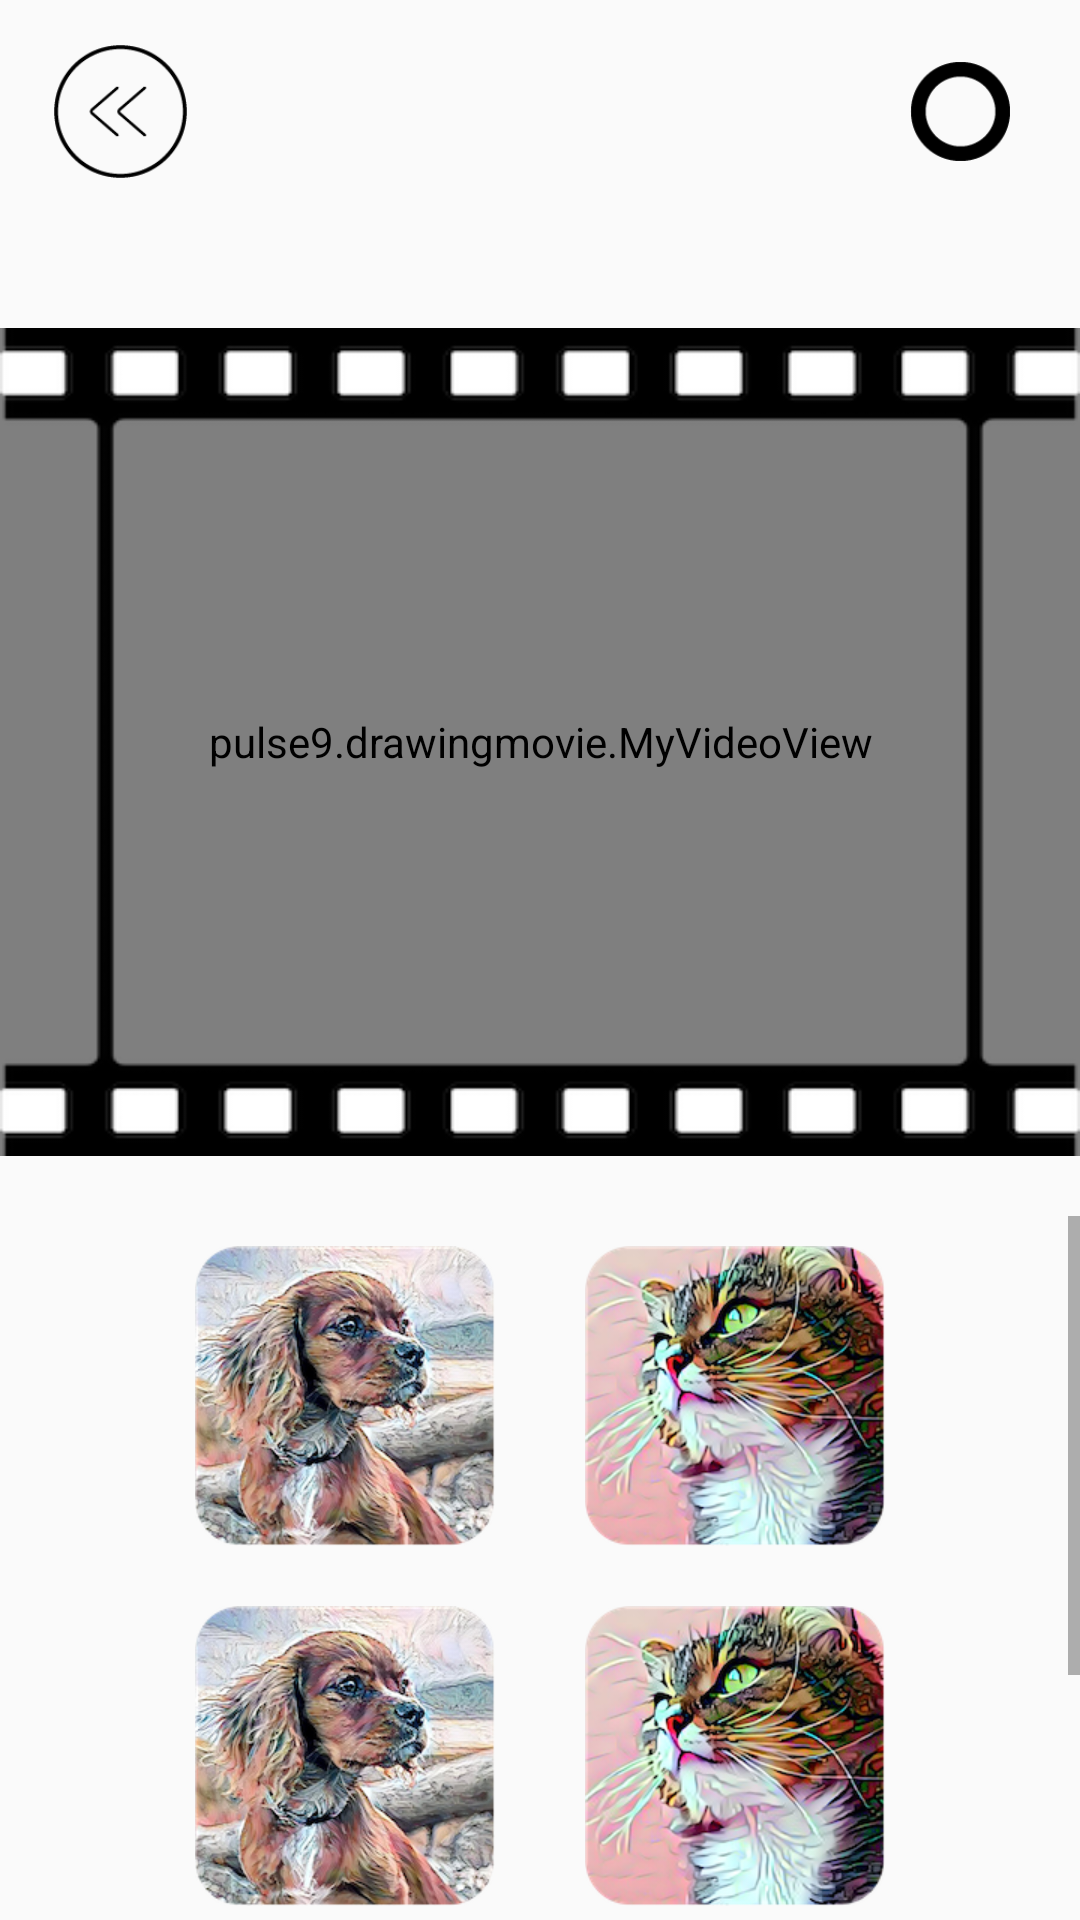

Icons on this 1080px×1920px Android screen, each with its box as [x1,y1,x2,y2]:
back: [54,45,187,178]
thum: [195,1246,494,1545], [585,1246,884,1545], [195,1606,494,1905], [585,1606,884,1905]
